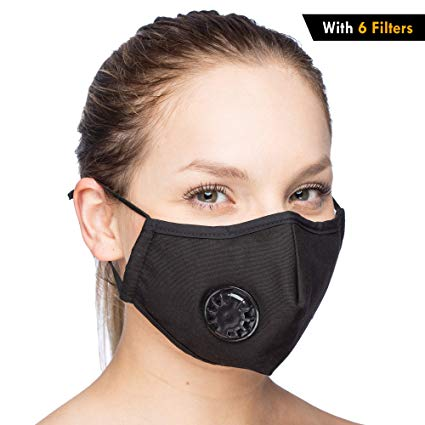mask: (132, 222, 353, 365)
